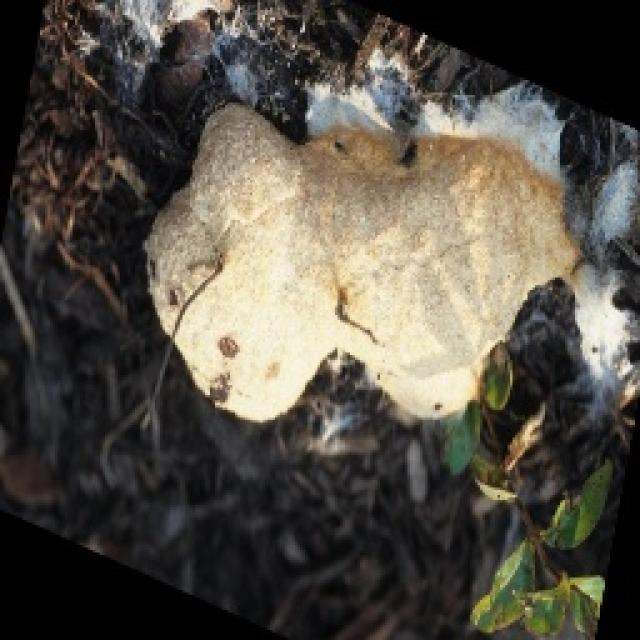Dog_vomit_slime_mold: (124, 83, 617, 448)
